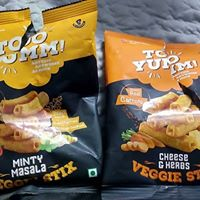plastic: (1, 10, 100, 191), (102, 46, 200, 194)
tooyumm: (1, 28, 66, 59), (136, 48, 198, 80)
wrapper: (1, 2, 96, 189), (105, 29, 200, 187)
